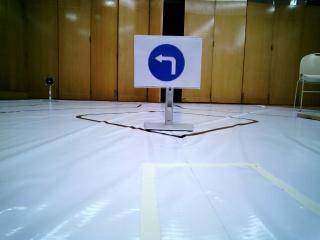left: (137, 37, 199, 88)
